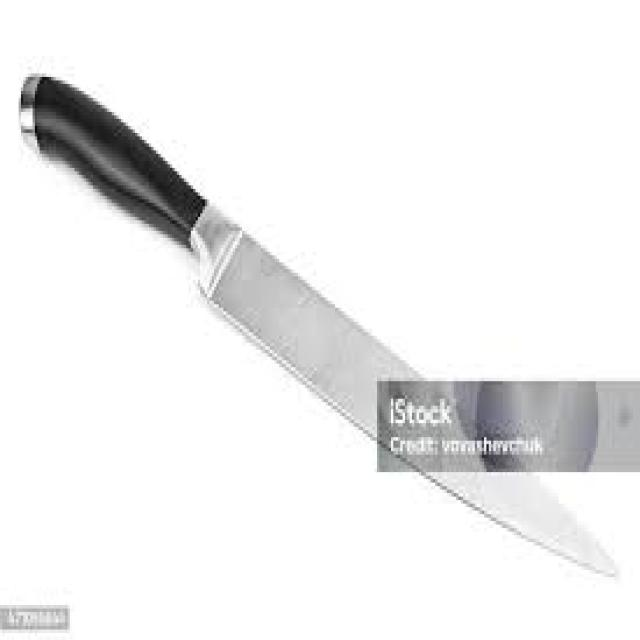Knife: (16, 66, 619, 577)
